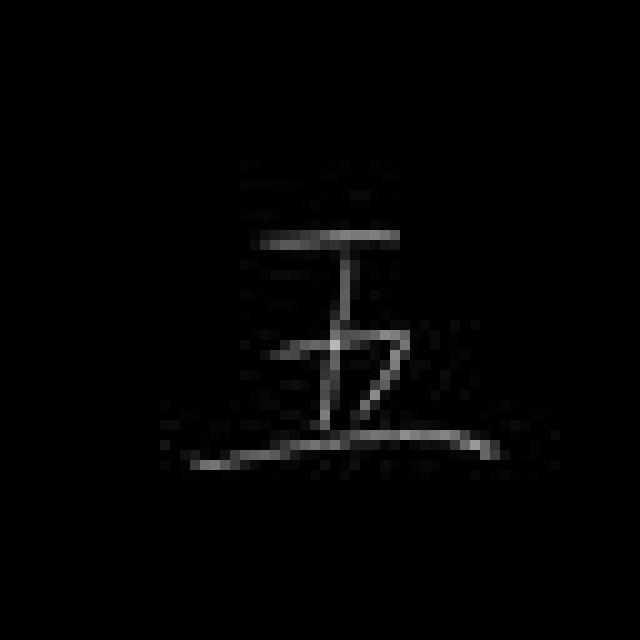5 -five-: (182, 214, 502, 479)
